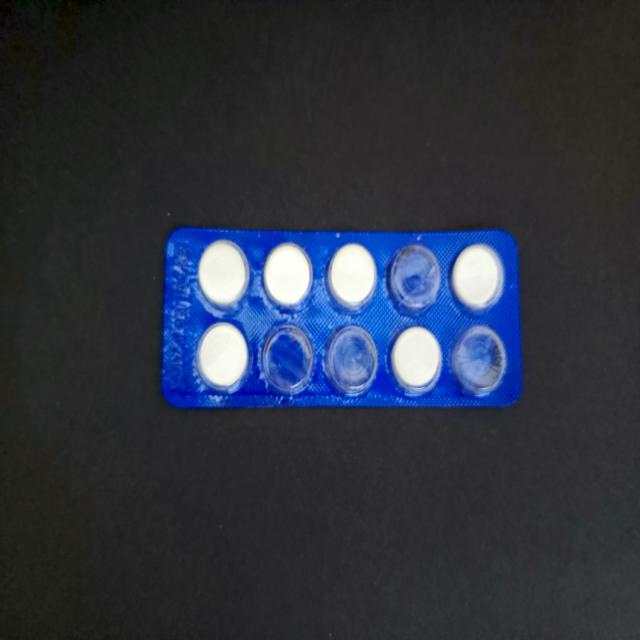defect: (257, 320, 317, 397), (450, 323, 509, 399), (322, 322, 380, 399), (385, 243, 443, 318)
